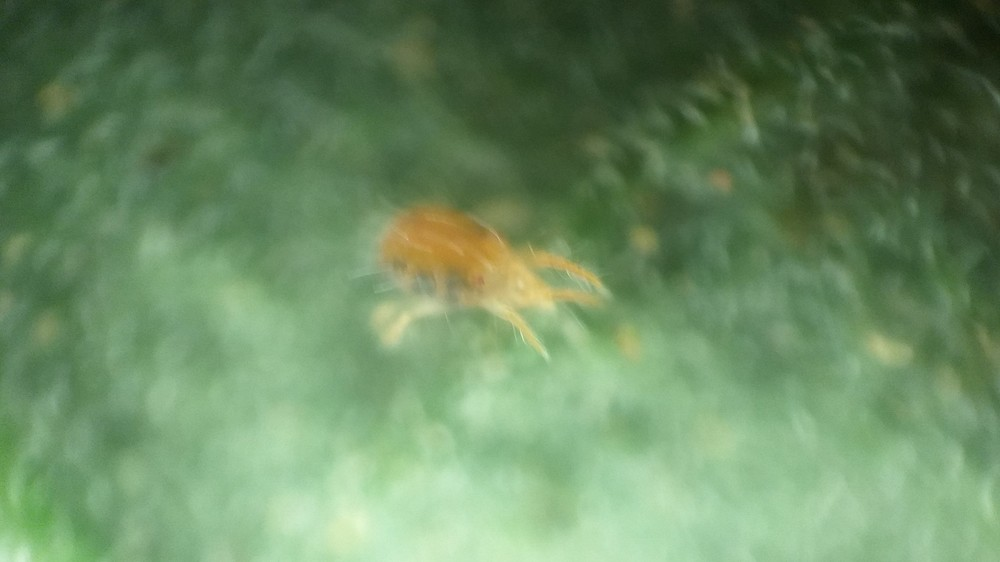Aracnido Rojo: (320, 180, 631, 376)
